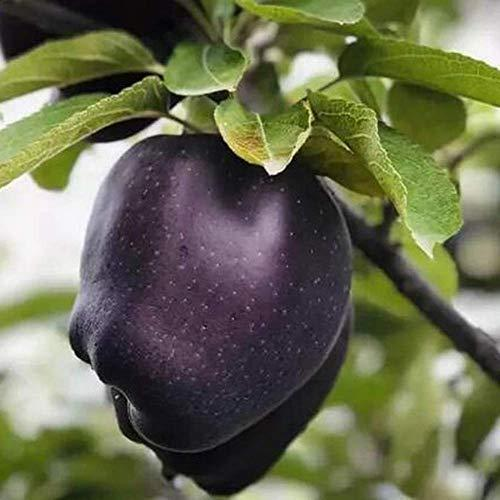apple: (64, 132, 355, 453)
